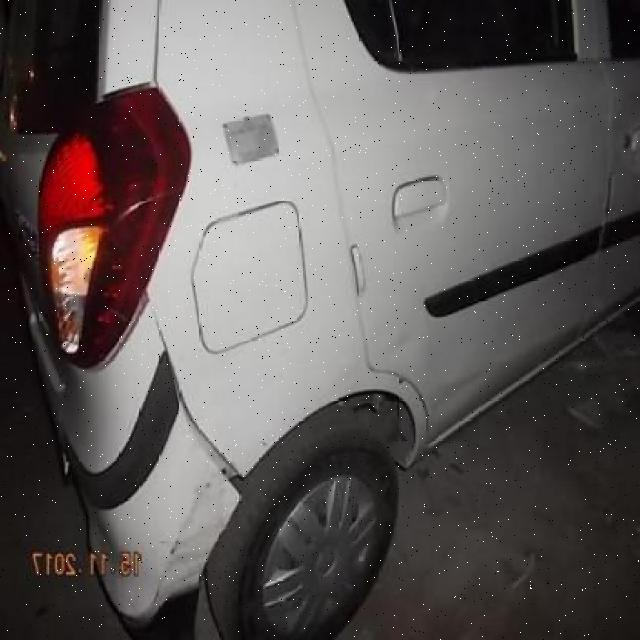damage: (141, 480, 223, 620), (173, 381, 247, 507), (426, 361, 493, 424), (363, 318, 418, 369)
